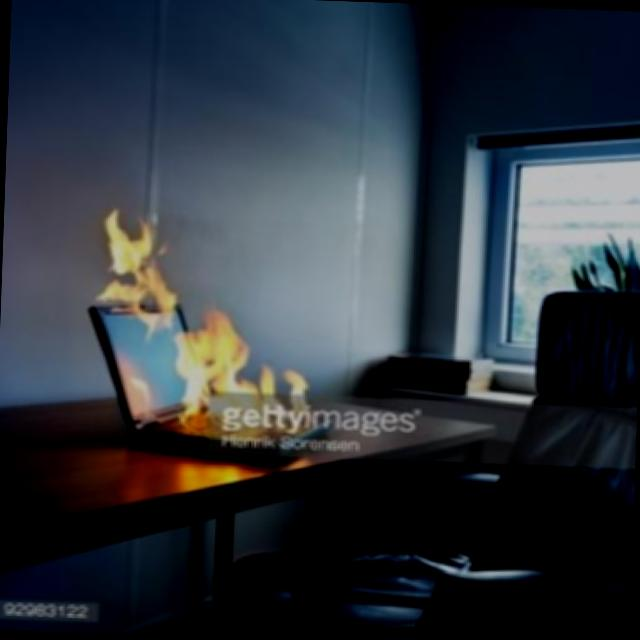fire: (73, 200, 346, 470)
